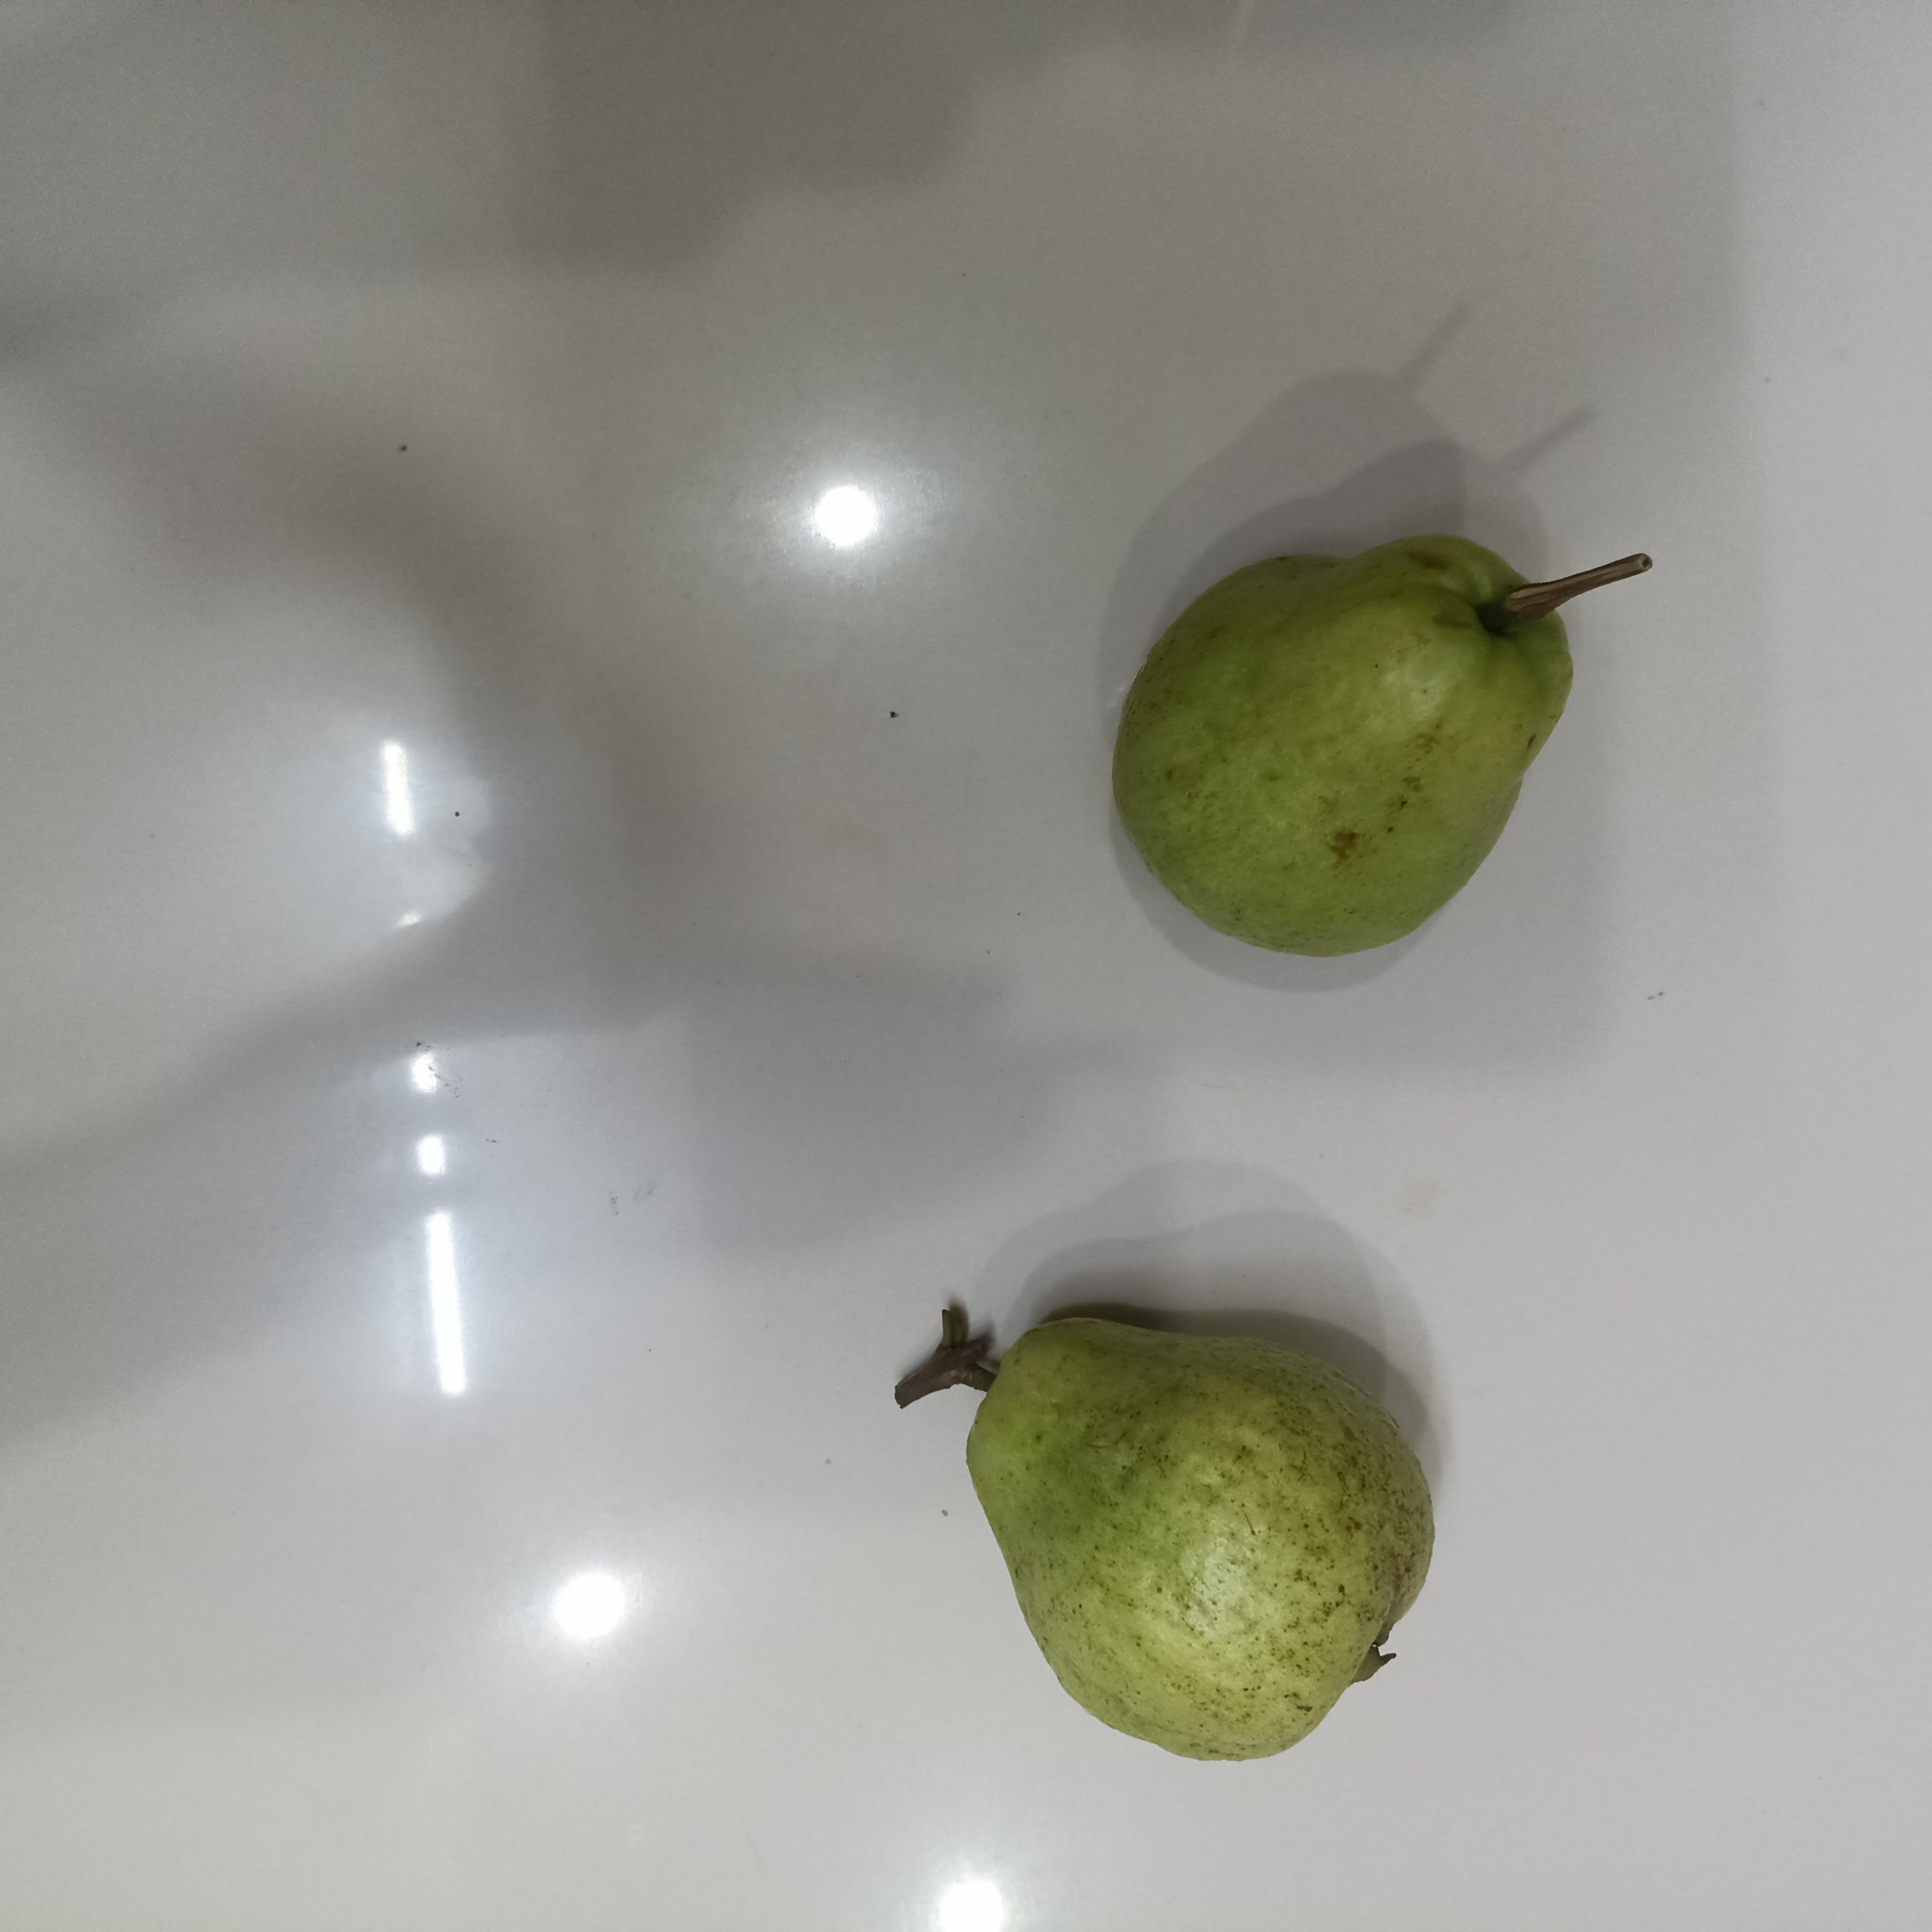Oi: (949, 1312, 1437, 1767), (1110, 532, 1575, 955)
